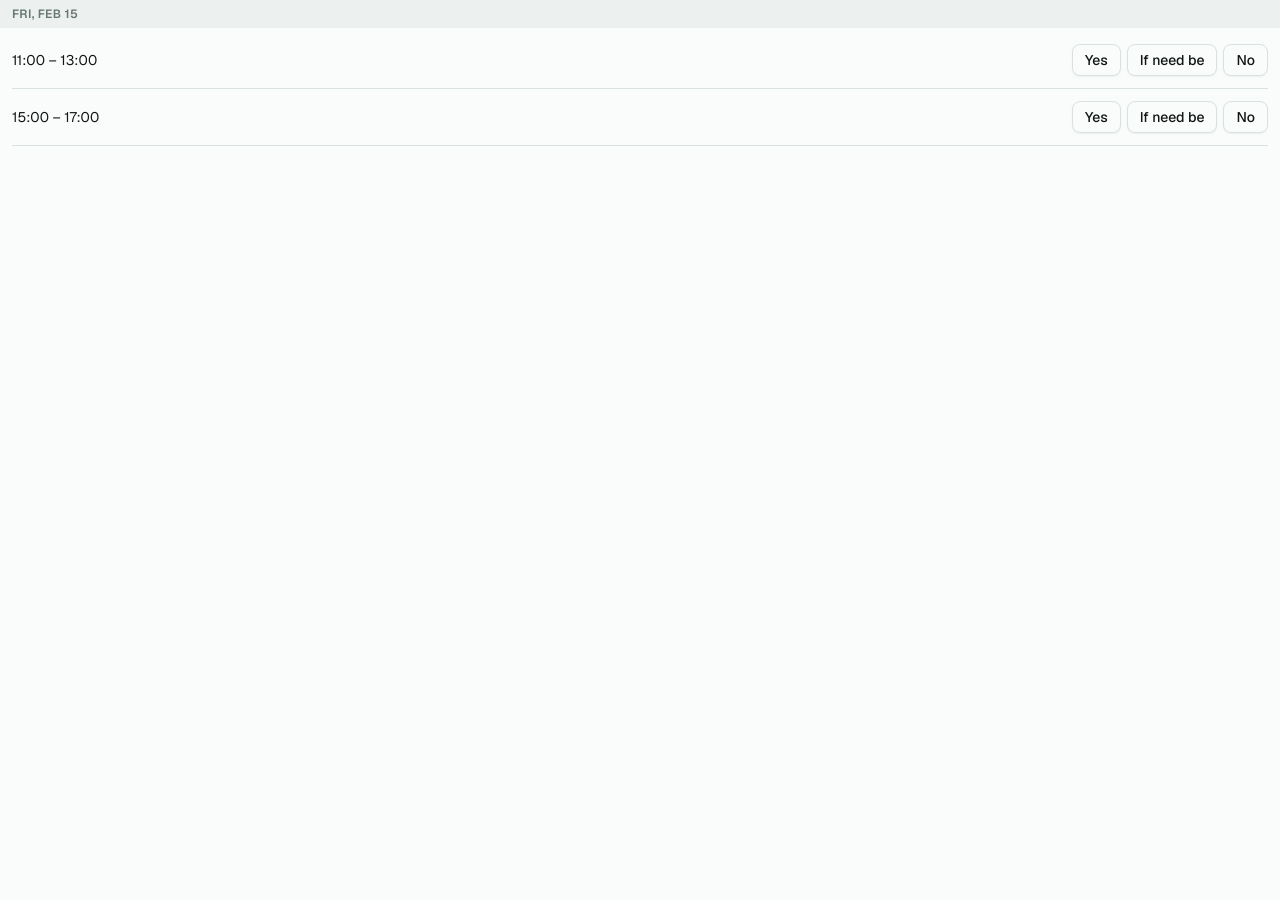
AvailabilityForm › shows success message after save
Click the button "Yes" in the row of "13:00": (1096, 60) 1072,44 -> 1121,76
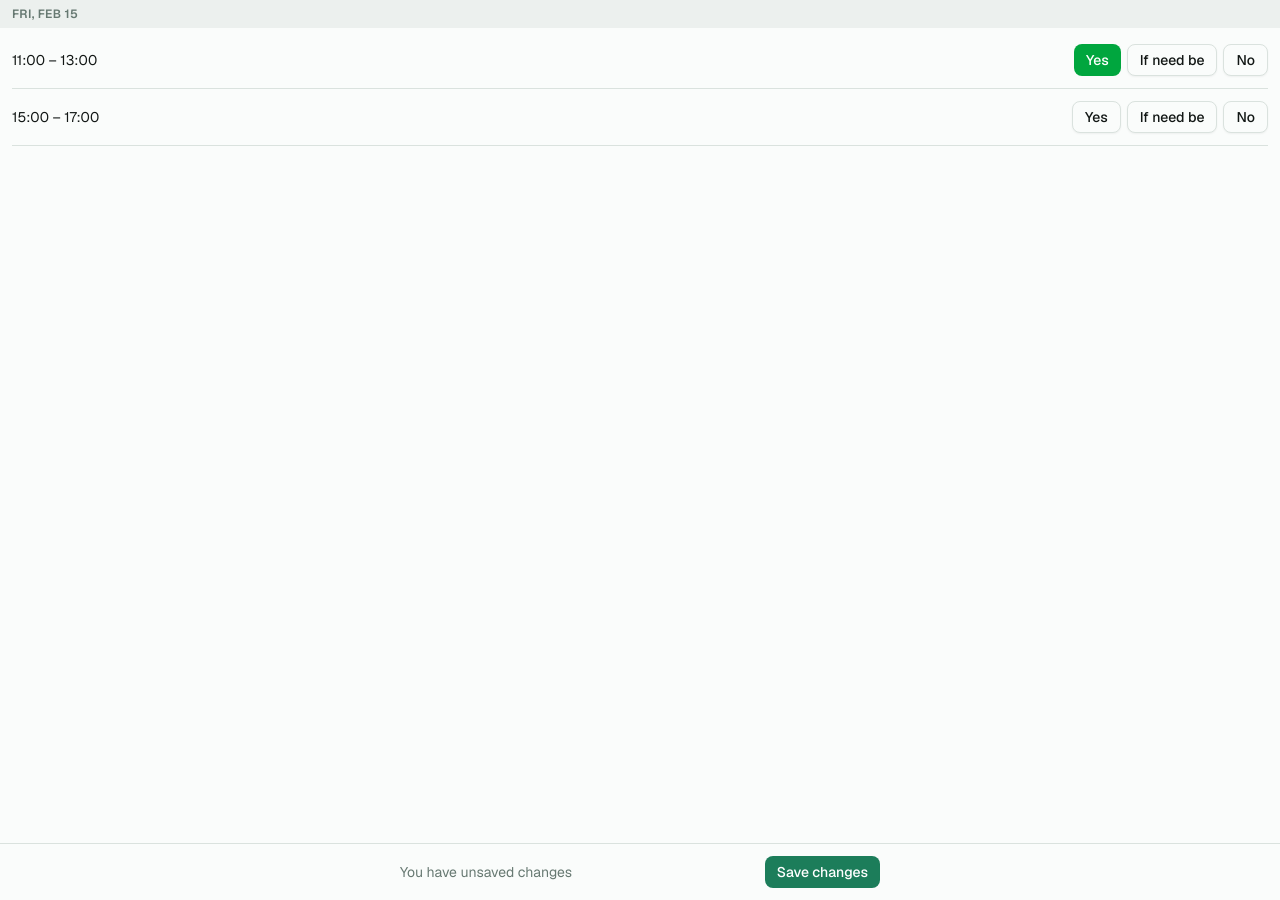
Click the button "Save changes": (822, 872) 765,856 -> 880,888
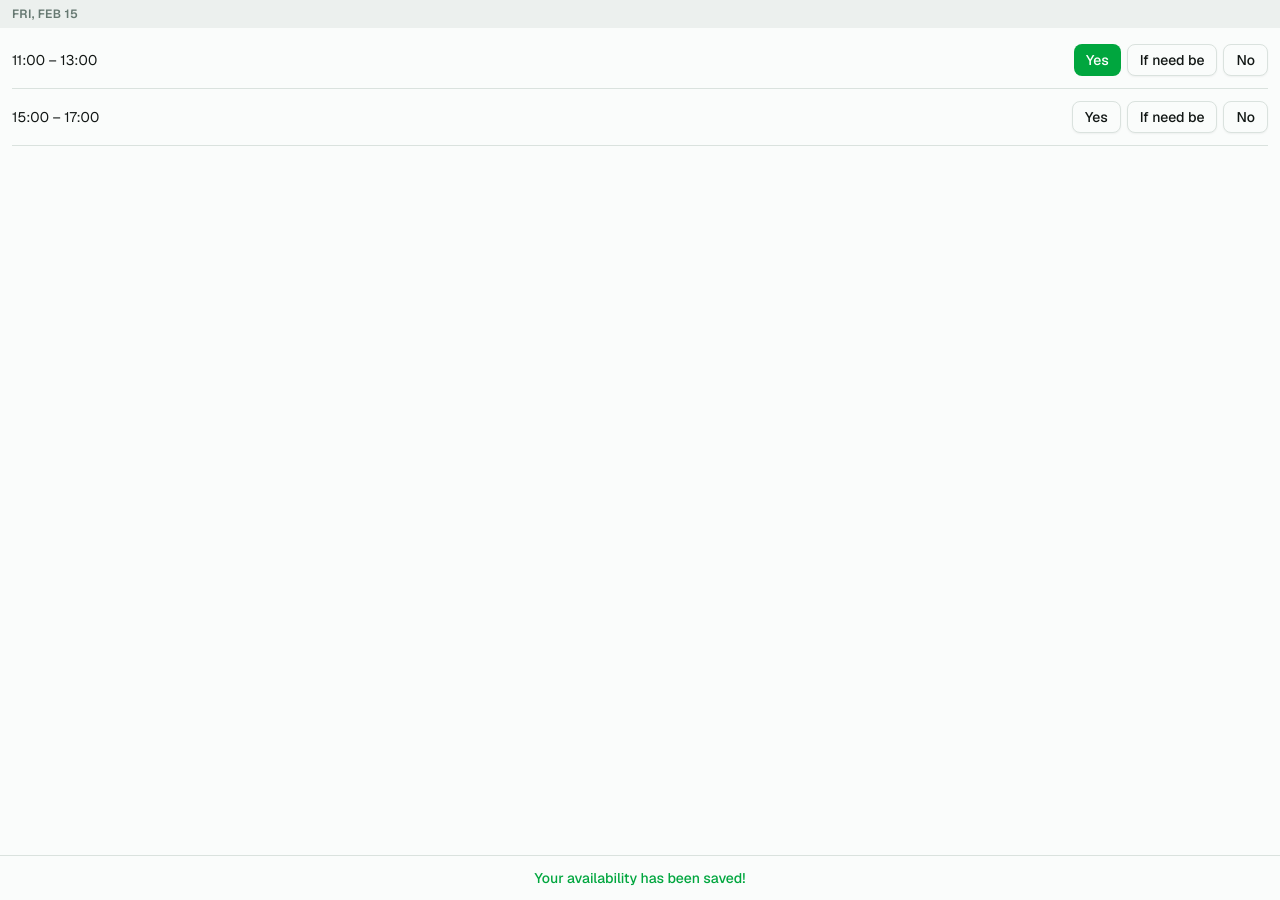
Result: the text "Your availability has been saved!" is shown at 534,869 -> 746,887
